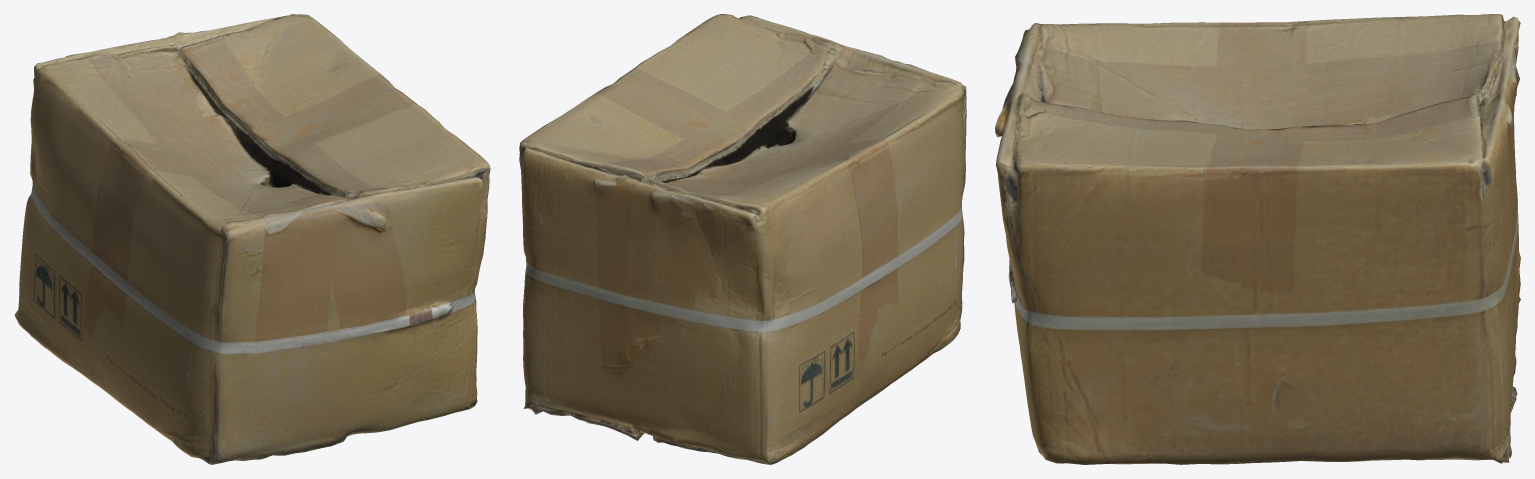
File: cardboard_box_01-1k-web.glb
3 views of the same model, side by side, from view 1: azimuth 30°, elevation 25°; view 2: azimuth 150°, elevation 25°; view 3: azimuth 270°, elevation 25° (orthographic). The views are drawn at different scales.
Parts seen in each view (by area): view 1: cardboard_box_01; view 2: cardboard_box_01; view 3: cardboard_box_01.
Boxes of the visible parts, x1=… form: cardboard_box_01: x1=14, y1=14, x2=490, y2=464; cardboard_box_01: x1=519, y1=14, x2=966, y2=464; cardboard_box_01: x1=995, y1=14, x2=1520, y2=464.
Bounding box in the file's own units: 0.387 × 0.3418 × 0.5159.
Materials: 1 (1 with a texture image).
